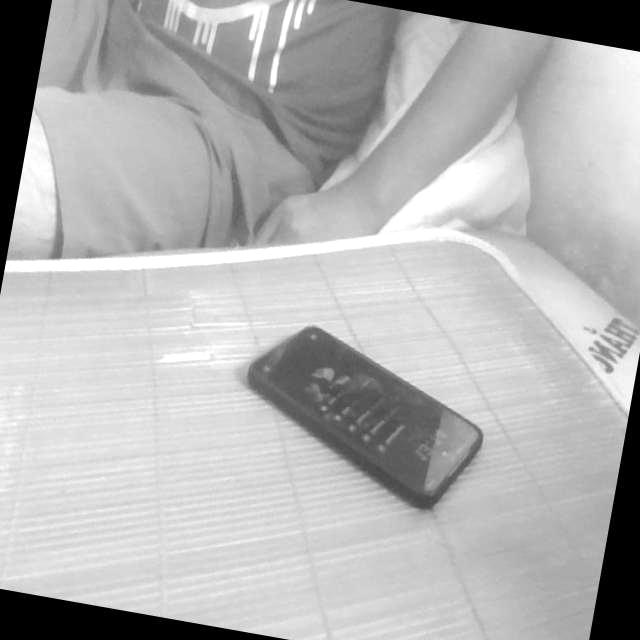phone: (212, 298, 514, 537)
